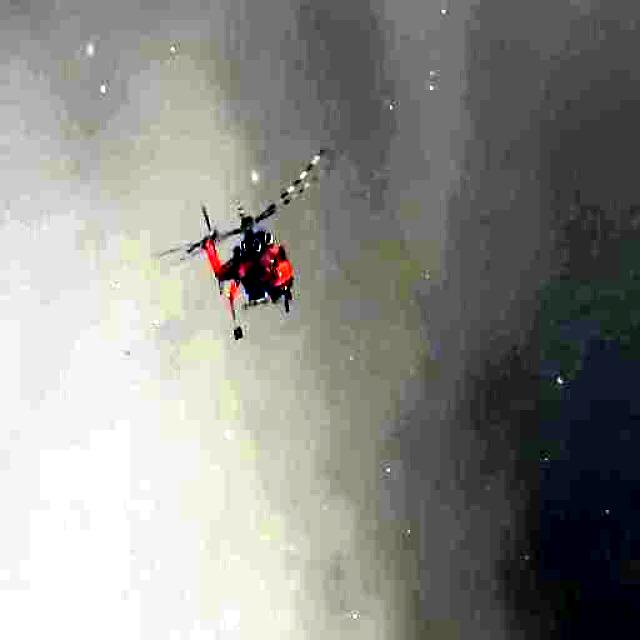drone: (155, 148, 328, 342)
